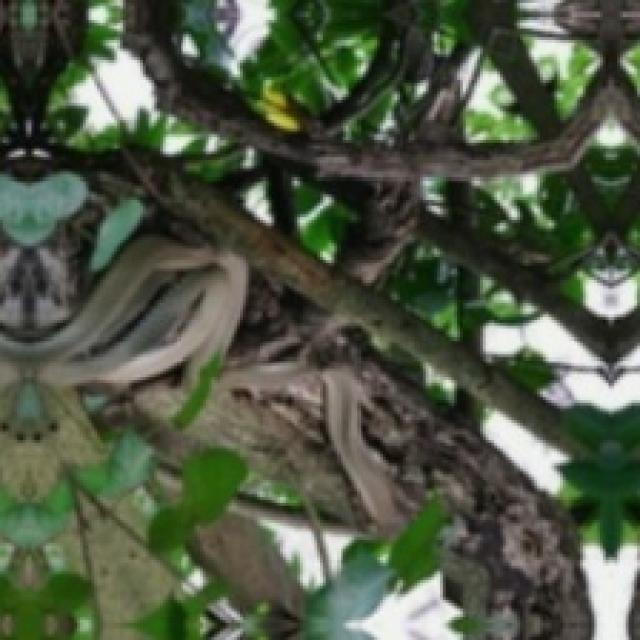king cobra: (0, 234, 246, 383)
